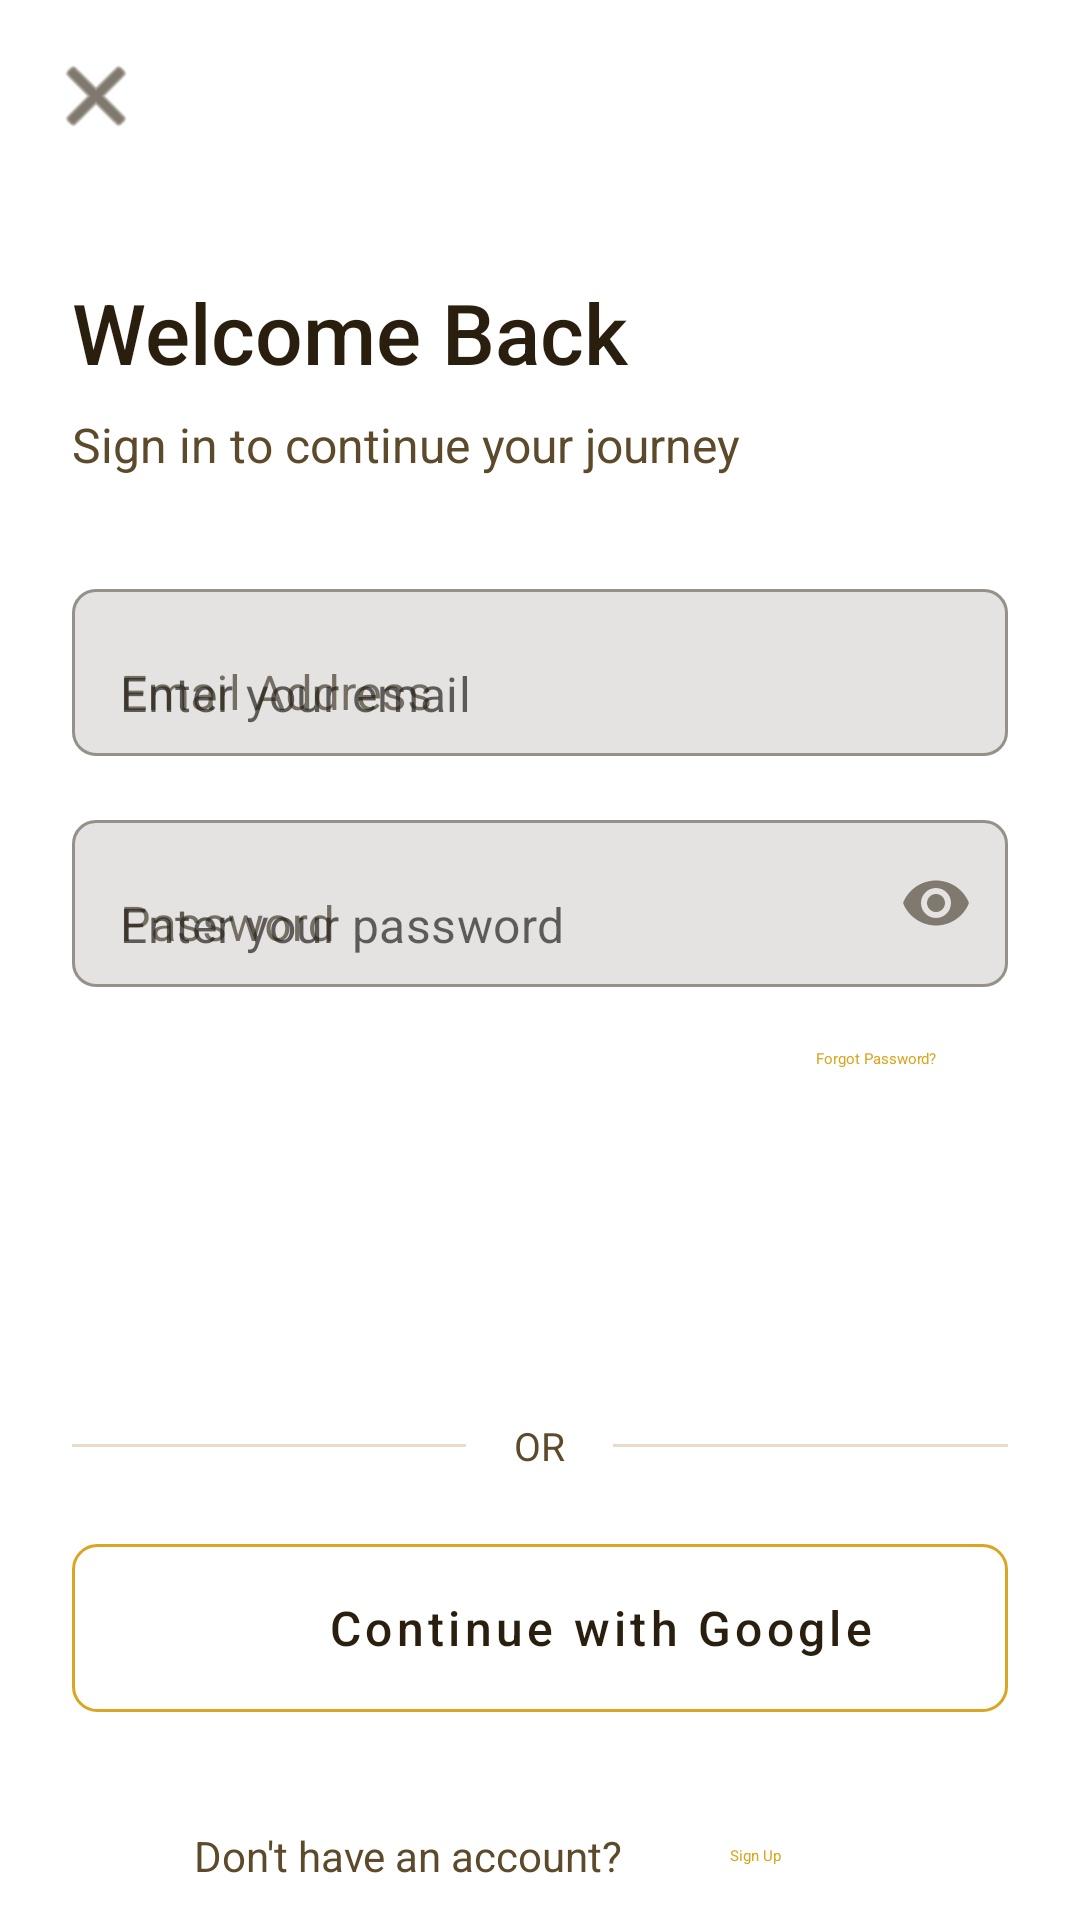

Where icons sit on this 1080px×1920px app screen, as (x1, y1, x2, y2):
Skip: (66, 66, 126, 126)
